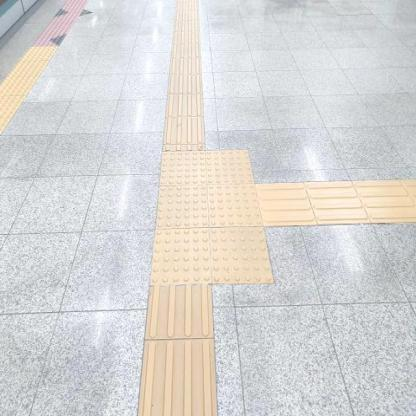podotacti: (109, 101, 317, 331), (1, 0, 86, 136), (139, 286, 215, 415), (164, 0, 206, 146), (268, 185, 416, 225)
